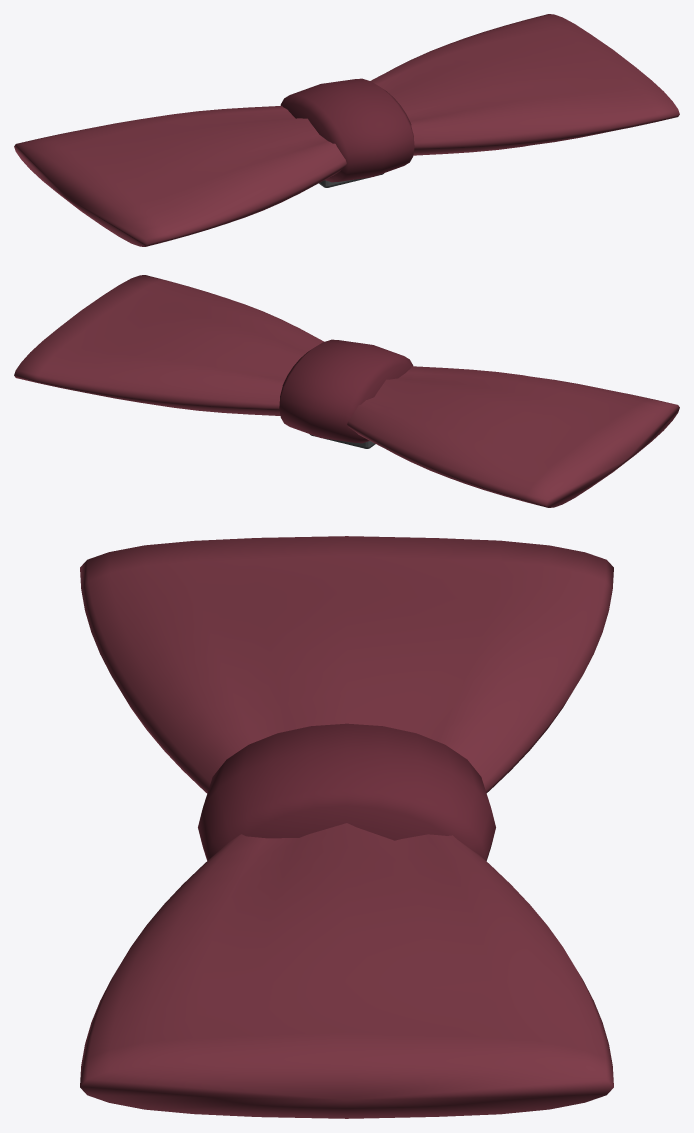
The picture shows the model from 3 angles, top to bottom: view 1: azimuth 30°, elevation 25°; view 2: azimuth 150°, elevation 25°; view 3: azimuth 270°, elevation 25°; orthographic projection. The views are drawn at different scales.
Parts seen in each view (by area): view 1: Whole original folded two-wing fabric bow, Central gathered fabric wrap; view 2: Whole original folded two-wing fabric bow, Central gathered fabric wrap; view 3: Whole original folded two-wing fabric bow, Central gathered fabric wrap.
Boxes of the visible parts, box(x1,y1,x2,y2) form: Whole original folded two-wing fabric bow: box(14, 14, 679, 246); Central gathered fabric wrap: box(280, 78, 414, 182); Whole original folded two-wing fabric bow: box(14, 275, 679, 507); Central gathered fabric wrap: box(279, 339, 413, 443); Whole original folded two-wing fabric bow: box(80, 536, 613, 1118); Central gathered fabric wrap: box(198, 723, 495, 860).
Bounding box in the file's own units: 0.128 × 0.0184 × 0.053.
